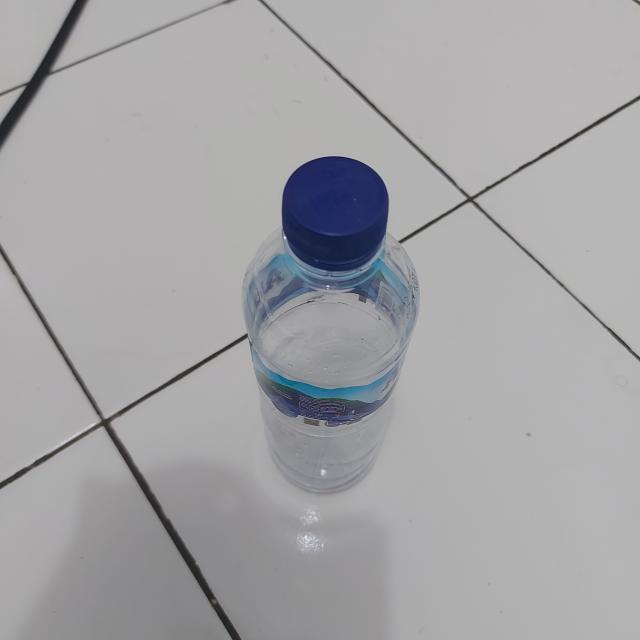Anorganik: (242, 157, 420, 496)
